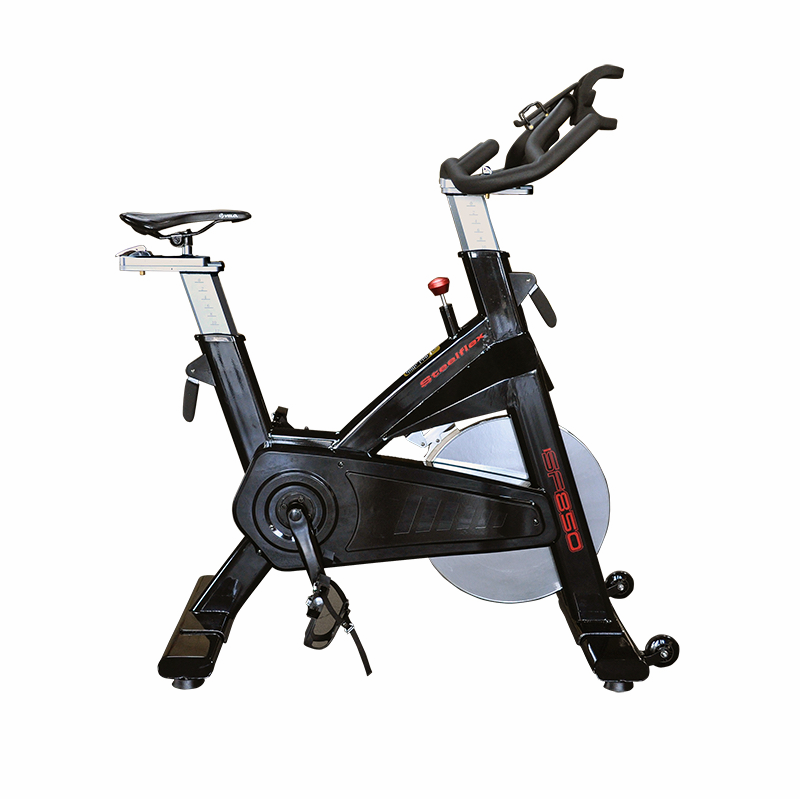gym_bike: (89, 36, 690, 712)
